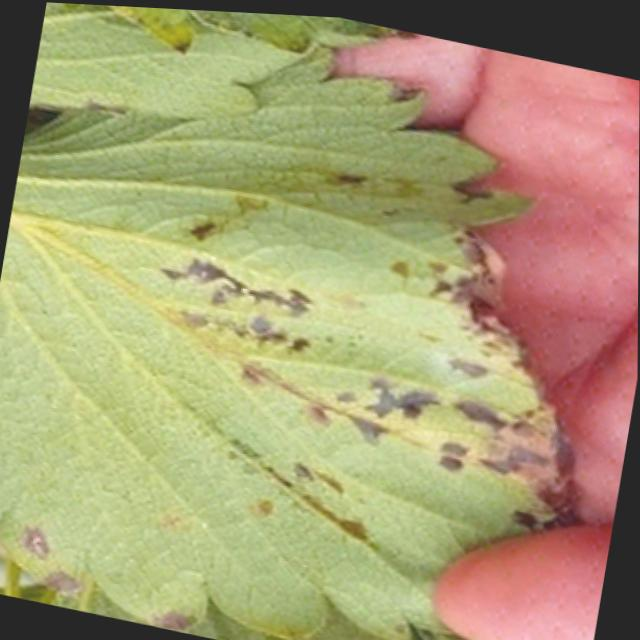Angular Leafspot: (141, 76, 576, 557)
